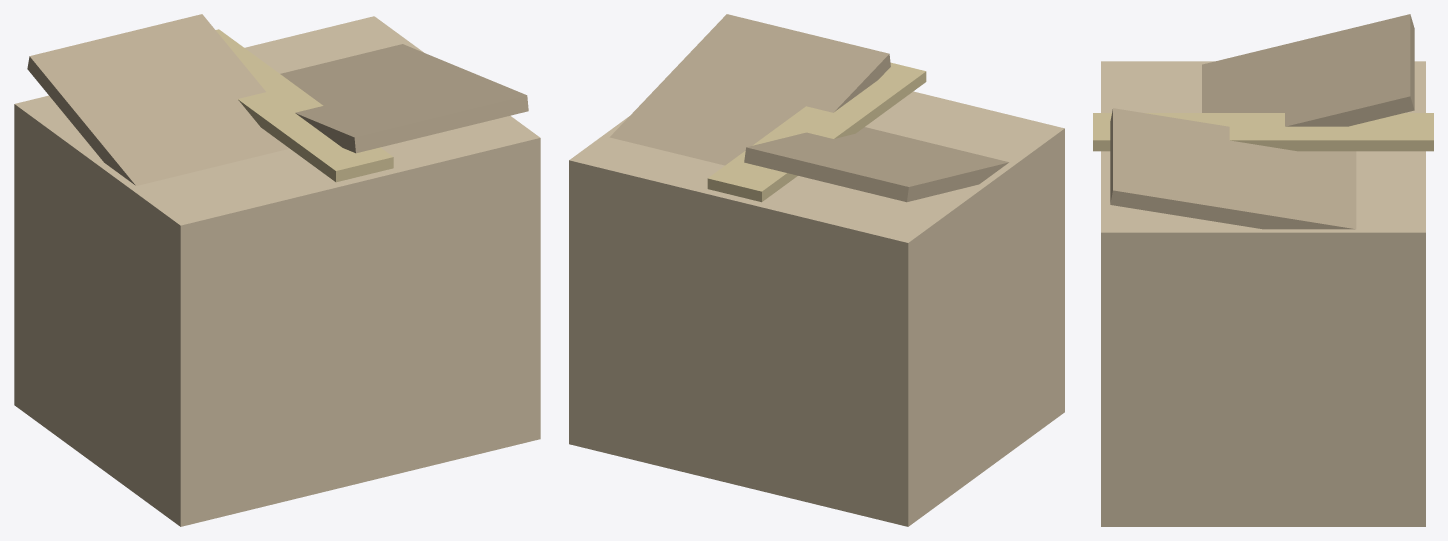
File: prop_cardboard_box.fbx
3 views of the same model, side by side, from view 1: azimuth 30°, elevation 25°; view 2: azimuth 150°, elevation 25°; view 3: azimuth 270°, elevation 25° (orthographic). The views are drawn at different scales.
Visible parts, largest first — view 1: Box_Body, Box_Flap1, Box_Flap2, Box_Tape; view 2: Box_Body, Box_Flap2, Box_Flap1, Box_Tape; view 3: Box_Body, Box_Flap2, Box_Flap1, Box_Tape.
Boxes of the visible parts, <box> form: Box_Body: <box>14,16,540,526</box>; Box_Flap1: <box>27,14,289,185</box>; Box_Flap2: <box>280,44,528,153</box>; Box_Tape: <box>216,29,393,182</box>; Box_Body: <box>569,91,1064,526</box>; Box_Flap2: <box>609,14,890,165</box>; Box_Flap1: <box>744,127,1008,202</box>; Box_Tape: <box>707,62,926,202</box>; Box_Body: <box>1101,61,1425,526</box>; Box_Flap2: <box>1110,108,1356,229</box>; Box_Flap1: <box>1202,14,1414,126</box>; Box_Tape: <box>1093,113,1433,151</box>.
Size of the model in its own units: 50 by 46.88 by 42.
